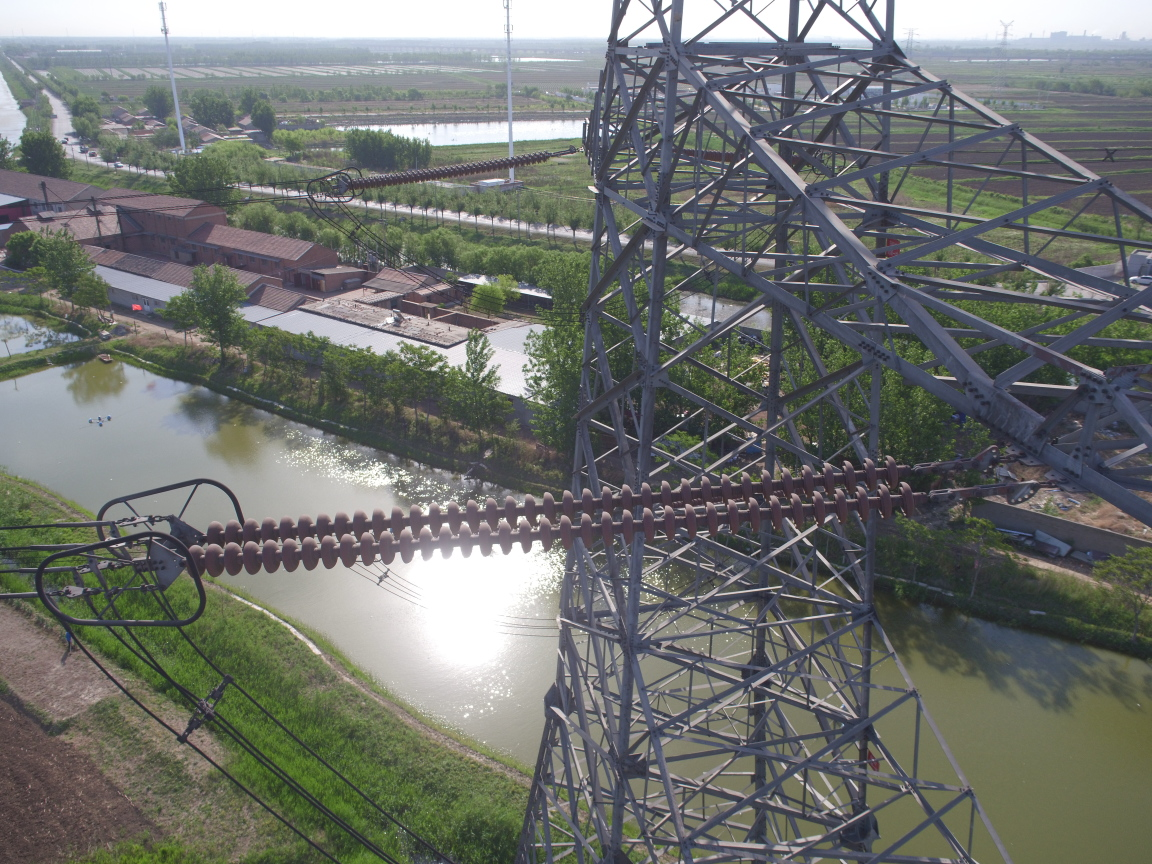insulator: (167, 446, 961, 583)
